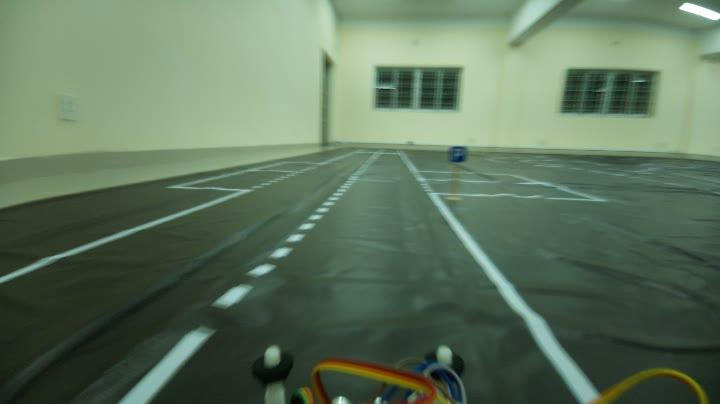parking: (446, 145, 470, 171)
